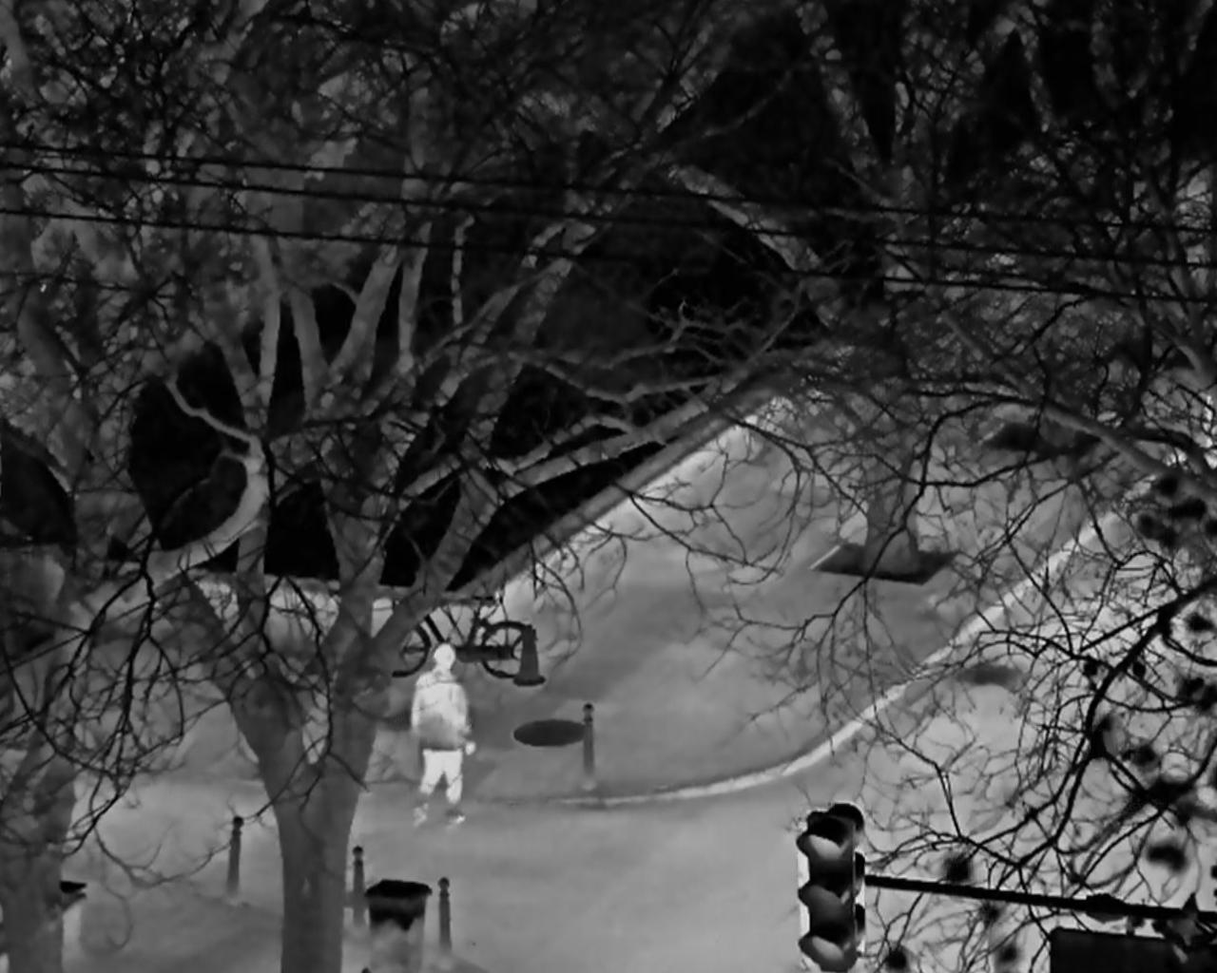person: (411, 641, 479, 827)
